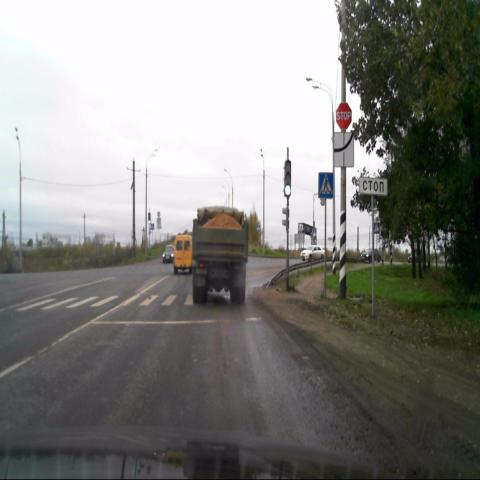2_5: (336, 102, 352, 130)
5_19_1: (318, 172, 334, 198)
6_16: (360, 178, 388, 196)
